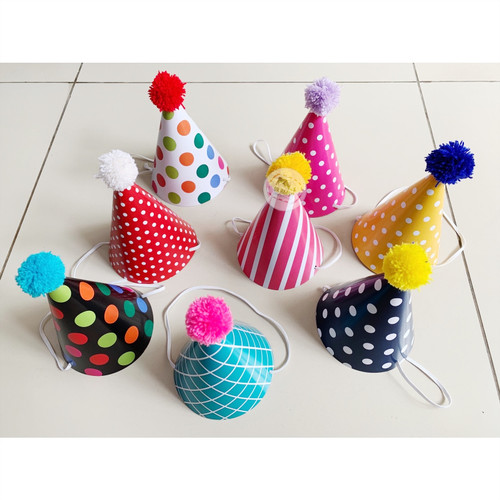cone: (47, 278, 154, 376), (174, 320, 273, 420), (316, 273, 414, 373), (351, 173, 444, 274), (109, 183, 197, 284), (237, 192, 323, 291), (151, 104, 229, 207), (280, 110, 345, 218)
